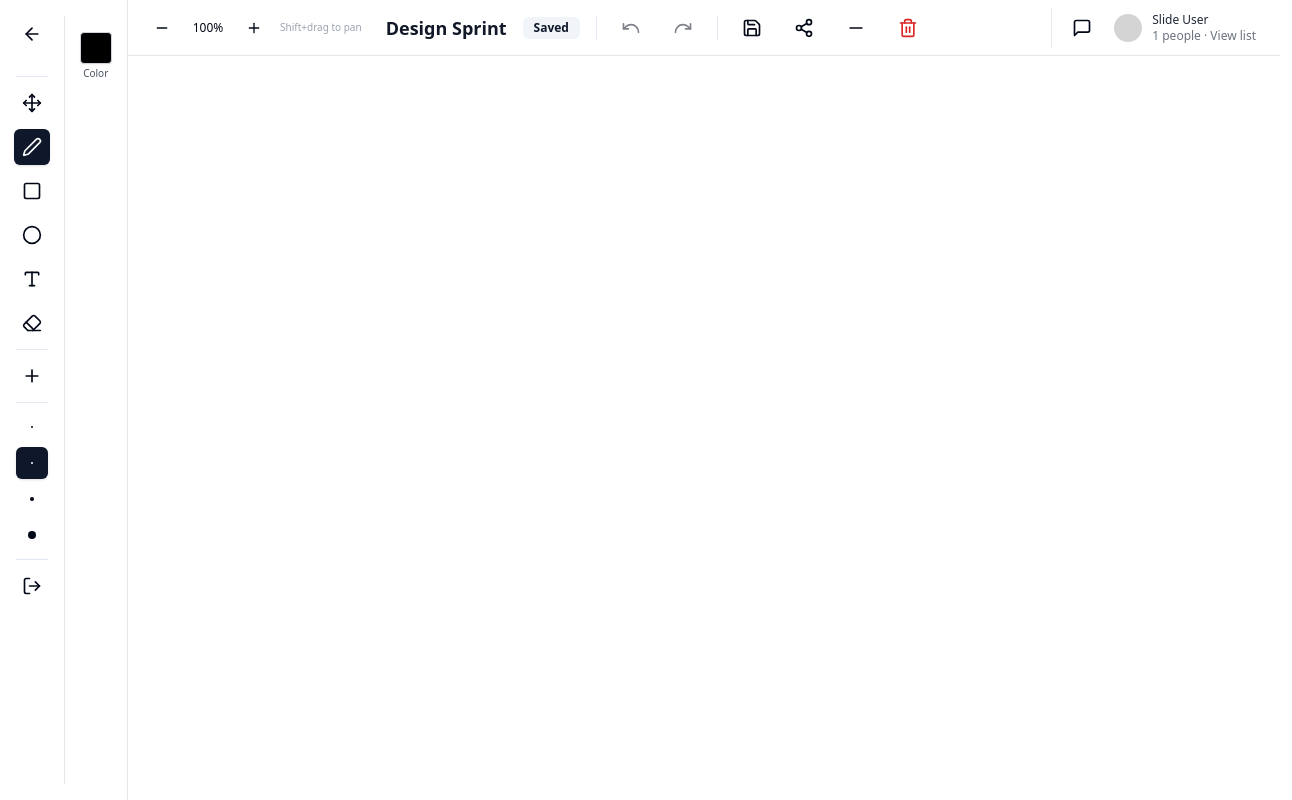
Test: Whiteboard › shows a Word-style text ribbon with size in px after choosing Text
The width and height of the screenshot is (1292, 800).
Click the button named "Text tool" at (32, 279), box top-left (14, 261), bottom-right (50, 297)
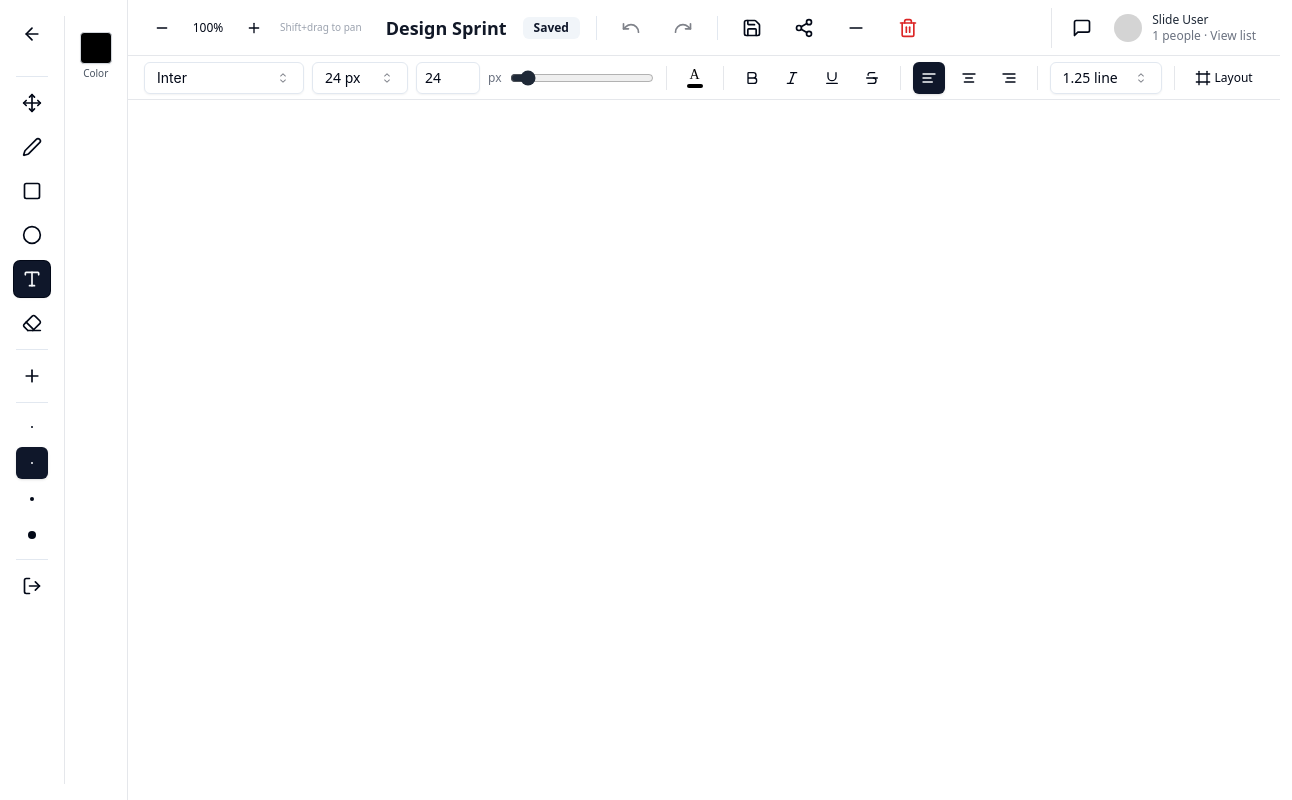
Expected: the element named "Text style" is shown, top-left (128, 56), bottom-right (1280, 100)
Expected: the dropdown named "Font family" is shown, top-left (144, 62), bottom-right (304, 94)
Expected: the number field named "Font size in pixels" holds "24", top-left (416, 62), bottom-right (480, 94)
